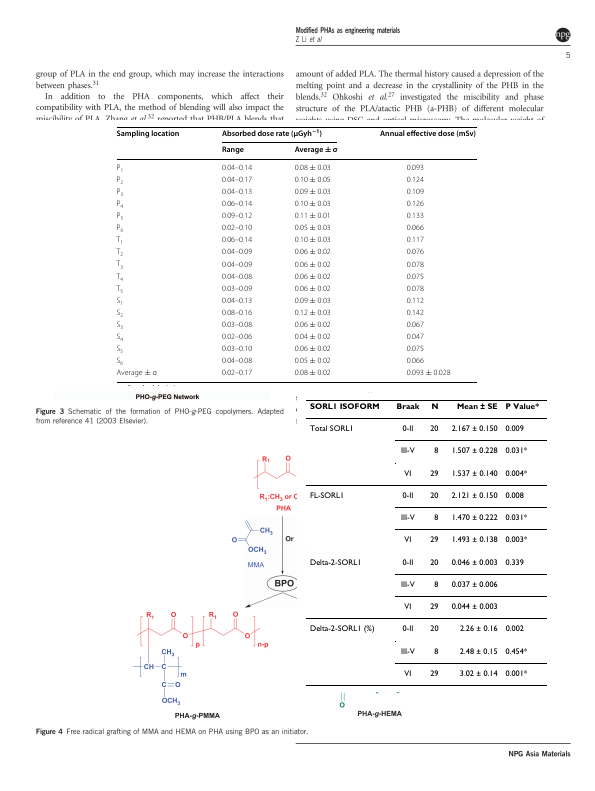borderless: (115, 125, 477, 382), (305, 398, 547, 685)
cell: (221, 128, 323, 139), (379, 129, 477, 139), (308, 625, 375, 635), (116, 129, 180, 139), (308, 558, 362, 568), (308, 403, 380, 410), (450, 447, 498, 457), (450, 469, 498, 479), (450, 491, 498, 501), (450, 513, 498, 523), (450, 536, 498, 546), (450, 558, 498, 568), (450, 580, 498, 590), (294, 145, 338, 155), (450, 425, 498, 434), (450, 603, 498, 612), (406, 369, 452, 378), (308, 425, 354, 434), (458, 625, 498, 635), (458, 647, 498, 657), (458, 669, 498, 679), (115, 369, 158, 378), (294, 163, 332, 173), (294, 175, 332, 185), (294, 284, 332, 294), (294, 296, 332, 306), (308, 491, 345, 501), (294, 188, 332, 197), (294, 200, 332, 209), (294, 212, 332, 221), (294, 224, 332, 233), (294, 236, 332, 245), (294, 248, 332, 257), (294, 260, 332, 269), (294, 272, 332, 281), (294, 309, 332, 318), (294, 321, 332, 330), (294, 333, 332, 342), (294, 345, 332, 354), (294, 357, 332, 366), (294, 369, 332, 378), (221, 163, 253, 173), (221, 175, 253, 185), (221, 284, 253, 294), (221, 296, 253, 306), (455, 403, 498, 410), (221, 188, 253, 197), (221, 200, 253, 209), (221, 212, 253, 221), (221, 224, 253, 233), (221, 236, 253, 245), (221, 248, 253, 257), (221, 260, 253, 269), (221, 272, 253, 281), (221, 309, 253, 318), (221, 321, 253, 330), (221, 333, 253, 342), (221, 345, 253, 354), (221, 357, 253, 366), (221, 369, 253, 378), (504, 403, 539, 410), (221, 145, 245, 155), (504, 447, 528, 457), (504, 469, 528, 479), (504, 513, 528, 523), (504, 536, 528, 546), (504, 647, 528, 657), (504, 669, 528, 679), (504, 491, 524, 501), (504, 558, 524, 568), (504, 625, 524, 635), (406, 163, 425, 173), (406, 175, 425, 185), (406, 284, 425, 294), (406, 296, 425, 306), (504, 425, 524, 434), (395, 403, 420, 410), (406, 188, 425, 197), (406, 200, 425, 209), (406, 212, 425, 221), (406, 224, 425, 233), (406, 236, 425, 245), (406, 248, 425, 257), (406, 260, 425, 269), (406, 272, 425, 281), (406, 309, 425, 318), (406, 321, 425, 330), (406, 333, 425, 342), (406, 345, 425, 354), (406, 357, 425, 366), (399, 447, 415, 457), (399, 513, 415, 523), (399, 580, 415, 590), (399, 647, 415, 657), (401, 491, 414, 501), (401, 558, 414, 568), (401, 625, 414, 635), (401, 425, 414, 434), (429, 469, 439, 479), (429, 491, 439, 501), (429, 536, 439, 546), (429, 558, 439, 568), (429, 625, 439, 635), (429, 669, 439, 679), (115, 236, 124, 247), (115, 248, 124, 259), (115, 260, 124, 271), (115, 272, 124, 283), (115, 284, 124, 295), (115, 296, 124, 307), (115, 345, 124, 356), (115, 357, 124, 368), (115, 309, 124, 319), (115, 321, 124, 331), (115, 333, 124, 343), (429, 425, 439, 434), (403, 469, 412, 479), (403, 536, 412, 546), (429, 603, 439, 612), (403, 669, 412, 679), (116, 163, 124, 174), (116, 175, 124, 186), (116, 224, 124, 235), (403, 603, 412, 612), (116, 188, 124, 198), (116, 200, 124, 210), (116, 212, 124, 222), (430, 403, 439, 410), (433, 447, 439, 457), (433, 513, 439, 523), (433, 580, 439, 590), (433, 647, 439, 657)
